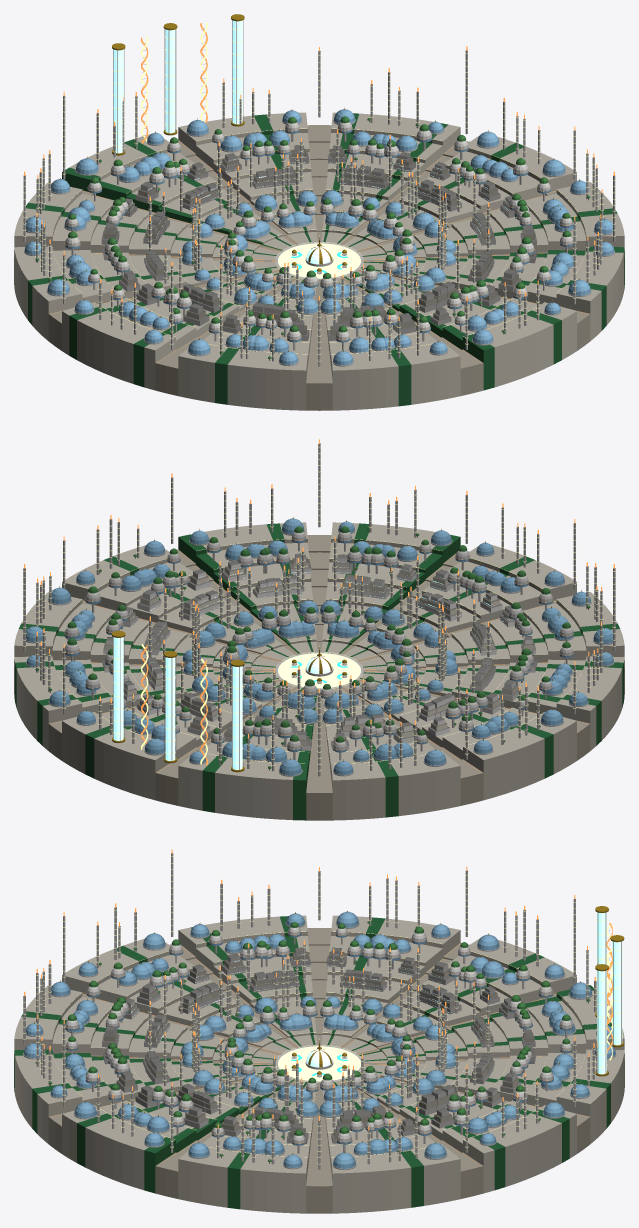
File: shaddai_suburb_star_v01.glb
The picture shows the model from 3 angles, top to bottom: view 1: azimuth 30°, elevation 25°; view 2: azimuth 150°, elevation 25°; view 3: azimuth 270°, elevation 25°; orthographic projection.
Visible parts, largest first — view 1: shaddai_suburb_star; view 2: shaddai_suburb_star; view 3: shaddai_suburb_star.
Boxes of the visible parts, left/top/right/bottom form: shaddai_suburb_star: left=14, top=14, right=624, bottom=410; shaddai_suburb_star: left=14, top=439, right=624, bottom=820; shaddai_suburb_star: left=14, top=849, right=624, bottom=1213.
Bounding box in the file's own units: 800 × 212 × 800.
